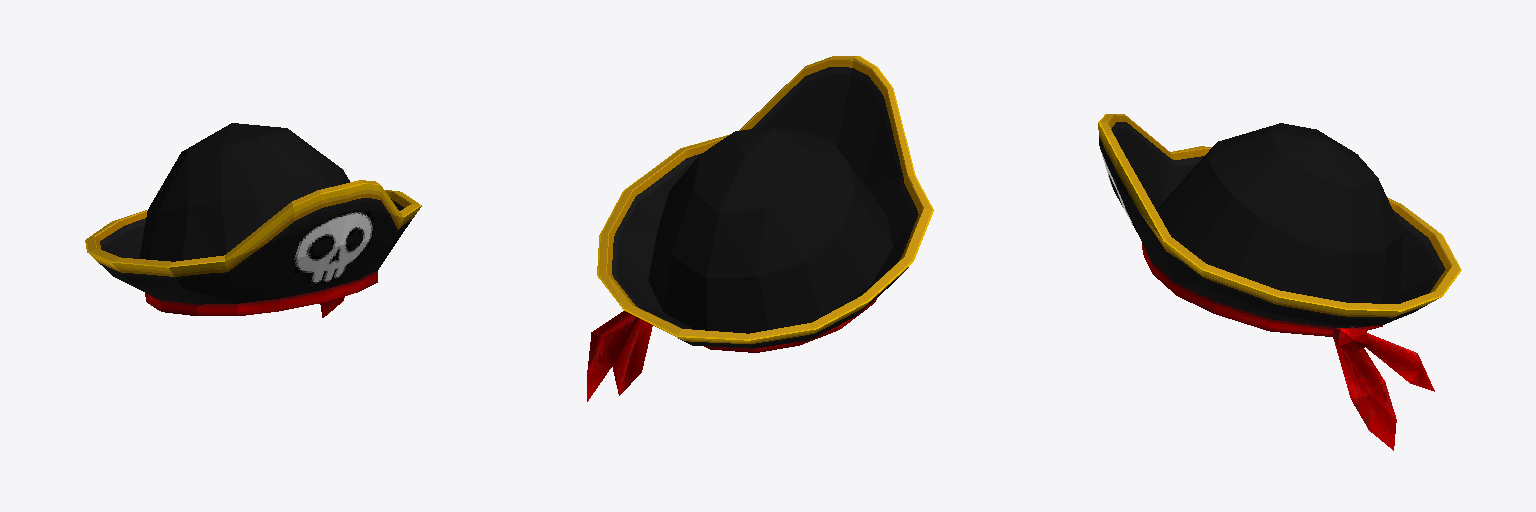
The picture shows the model from 3 angles: view 1: azimuth 30°, elevation 25°; view 2: azimuth 150°, elevation 25°; view 3: azimuth 270°, elevation 25°; orthographic projection.
Visible parts, largest first — view 1: default; view 2: default; view 3: default.
Boxes of the visible parts, x1=… form: default: x1=85, y1=123, x2=421, y2=317; default: x1=587, y1=56, x2=933, y2=401; default: x1=1098, y1=114, x2=1461, y2=450.
Size of the model in its own units: 89.54 by 79.33 by 97.03.
1 materials, 1 textured.